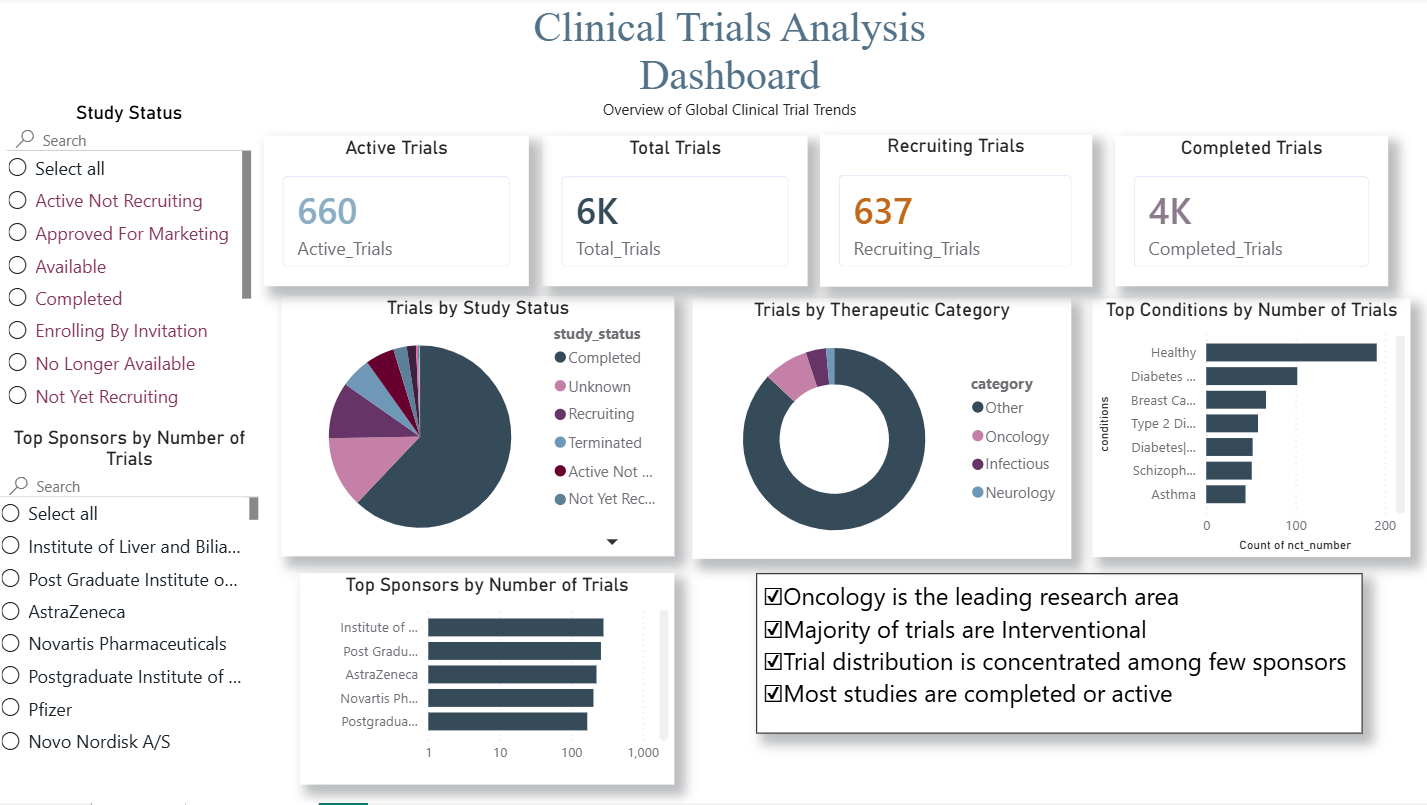

The dashboard page shown, as its layout file describes it:
{"tool":"powerbi","page":{"name":"Page 1","canvas":[1280,720],"ordinal":0},"visuals":[{"type":"pieChart","title":"Trials by Study Status","fields":{"Category":["public trials.study_status"],"Y":["CountNonNull(public trials.nct_number)"]},"box":[255.7,267.1,351.4,232.9],"z":0},{"type":"listSlicer","title":"Top Sponsors by Number of Trials","fields":{"Values":["public trials.sponsor"]},"box":[0,382.9,240,305.7],"z":1000},{"type":"donutChart","title":"Trials by Therapeutic Category","fields":{"Category":["public trials.category"],"Y":["CountNonNull(public trials.nct_number)"]},"box":[622.9,268.6,338.6,232.9],"z":2000},{"type":"textbox","box":[680,514.3,541.4,142.9],"z":3000},{"type":"clusteredBarChart","title":"Top Conditions by Number of Trials","fields":{"Category":["public trials.conditions"],"Y":["CountNonNull(public trials.nct_number)"]},"box":[980,268.6,284.3,231.4],"z":4000},{"type":"textbox","box":[394.3,0,524.3,122.9],"z":5000},{"type":"cardVisual","title":"Total Trials","fields":{"Data":["public trials.Total_Trials"]},"box":[488.6,124.3,237.1,134.3],"z":6000},{"type":"cardVisual","title":"Active Trials","fields":{"Data":["public trials.Active_Trials"]},"box":[240,124.3,237.1,134.3],"z":7000},{"type":"cardVisual","title":"Recruiting Trials","fields":{"Data":["public trials.Recruiting_Trials"]},"box":[737.1,122.9,242.9,135.7],"z":8000},{"type":"cardVisual","title":"Completed Trials","fields":{"Data":["public trials.Completed_Trials"]},"box":[1000,124.3,244.3,134.3],"z":9000},{"type":"listSlicer","title":"Study Status","fields":{"Values":["public trials.study_status"]},"box":[5.7,92.9,228.6,290],"z":10000},{"type":"clusteredBarChart","title":"Top Sponsors by Number of Trials","fields":{"Category":["public trials.sponsor"],"Y":["CountNonNull(public trials.nct_number)"]},"box":[272.9,514.3,334.3,188.6],"z":11000}]}

Visuals, with their boxes in screenshot pixels (x1, y1, x2, y2), scaled from the page's 1280x720 canvas onto the 1427x805 screenshot:
"Trials by Study Status" pieChart: (285,299,677,559)
"Top Sponsors by Number of Trials" listSlicer: (0,428,268,770)
"Trials by Therapeutic Category" donutChart: (694,300,1072,561)
textbox: (758,575,1362,735)
"Top Conditions by Number of Trials" clusteredBarChart: (1093,300,1409,559)
textbox: (440,0,1024,137)
"Total Trials" cardVisual: (545,139,809,289)
"Active Trials" cardVisual: (268,139,532,289)
"Recruiting Trials" cardVisual: (822,137,1093,289)
"Completed Trials" cardVisual: (1115,139,1387,289)
"Study Status" listSlicer: (6,104,261,428)
"Top Sponsors by Number of Trials" clusteredBarChart: (304,575,677,786)
